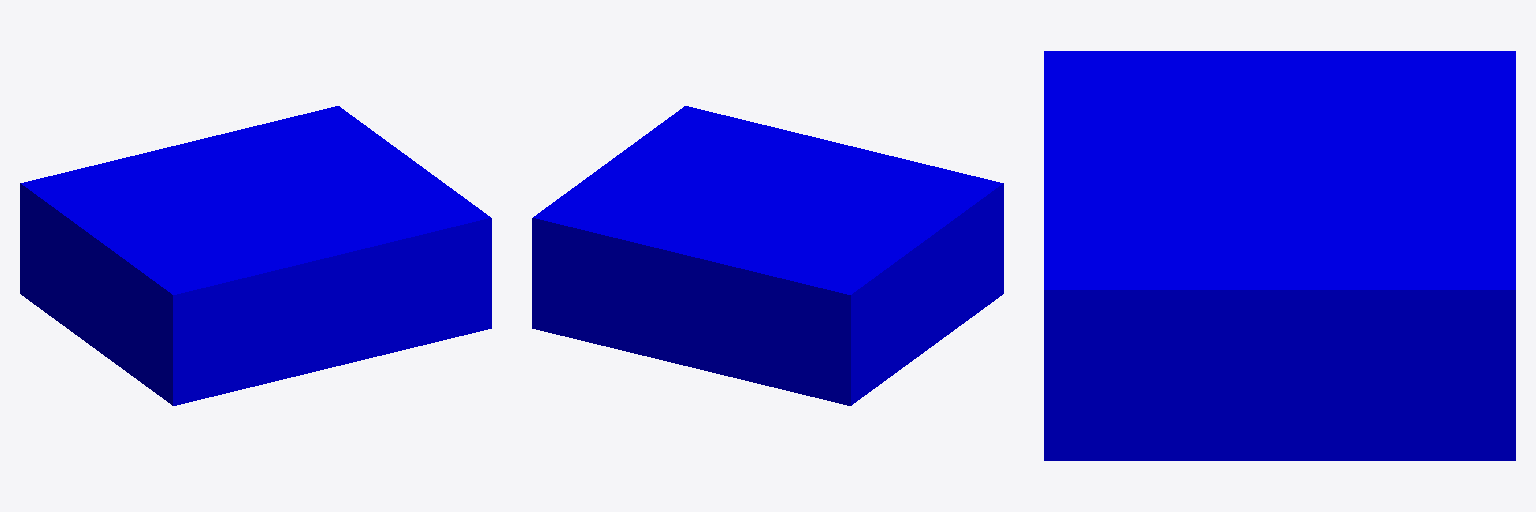
URDF robot description (box_triangle_box):
<?xml version="1.0"?>
<robot name="box_triangle_box">
    
    <!-- Bottom Box -->
    <link name="base">
    </link>
    <!-- Bottom Box -->
<link name="triangle">
    <!-- Visual Representation -->
    <visual>
        <geometry>
            <box size="0.6 0.5 0.2"/>
        </geometry>
        <material name="blue">
            <color rgba="0.0 0.0 1.0 1.0"/>
        </material>
    </visual>

    <!-- Collision Representation -->
    <collision>
        <geometry>
            <box size="0.6 0.5 0.2"/>
        </geometry>
    </collision>
</link>

    
    <!-- Joints -->
    <joint name="base_to_triangle" type="fixed">
        <parent link="base"/>
        <child link="triangle"/>
        <origin xyz="0 0 0.1"/>
    </joint>
    

    
</robot>

--- Facts derived from the render (not from the file) ---
Views: 3 orthographic renders of the robot side by side, from view 1: azimuth 30°, elevation 25°; view 2: azimuth 150°, elevation 25°; view 3: azimuth 270°, elevation 25°.
Robot: box_triangle_box — 2 links, 1 joints (1 fixed); root link base; default pose: every joint at zero.
Links seen in each view (by area): view 1: triangle; view 2: triangle; view 3: triangle.
Link boxes in pixels (left/top/right/bottom): triangle: left=20, top=106, right=491, bottom=405; triangle: left=532, top=106, right=1003, bottom=405; triangle: left=1044, top=51, right=1515, bottom=460.
Size in the robot's own frame: 0.6 by 0.5 by 0.2 metres.
Geometry: primitives only (box / cylinder / sphere), no mesh files.
